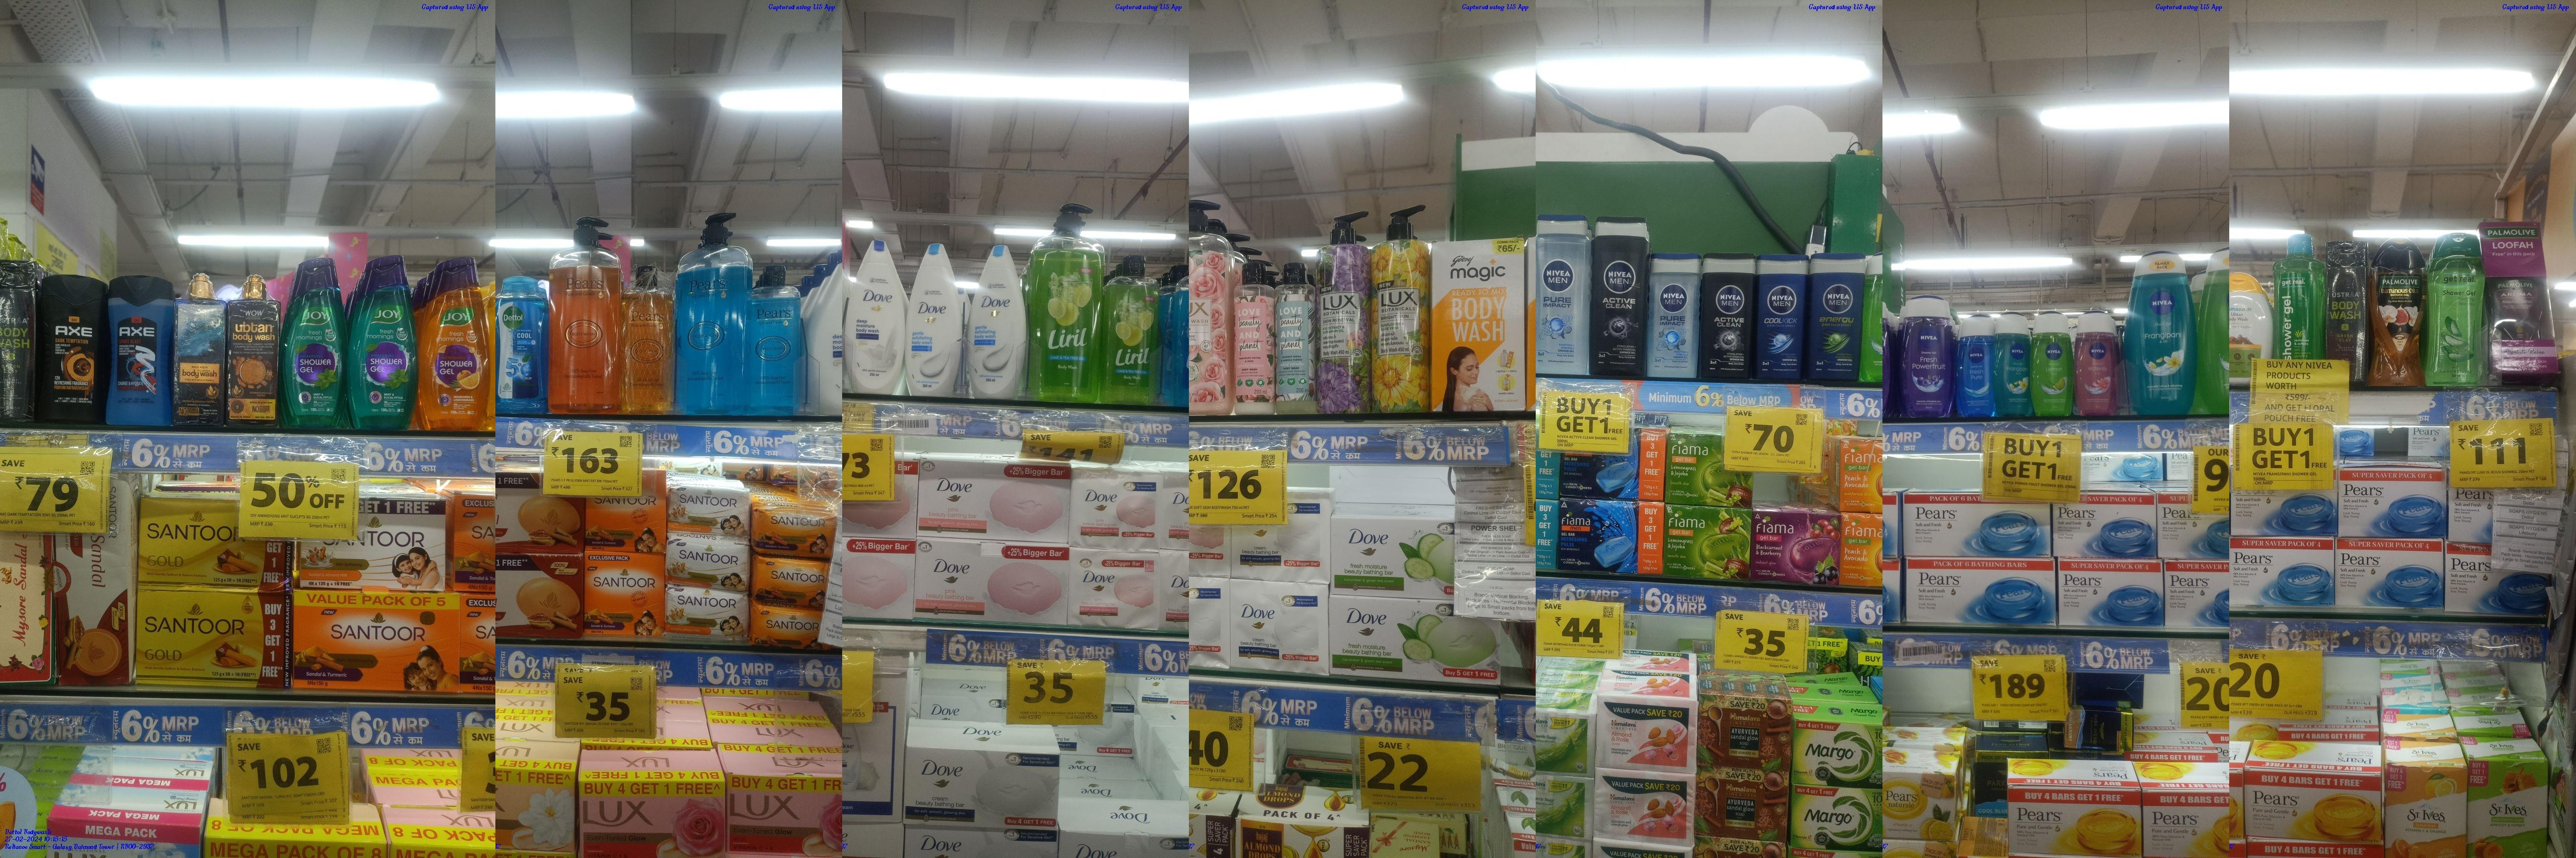Dettol_Bodywash_Cool: (495, 274, 544, 416)
Dove_Deep_Moisture_Body_Wash_250ML: (849, 240, 904, 394)
Dove_Gentle_Exfoliating_Body_Wash_250ML: (966, 243, 1025, 401), (908, 243, 959, 399)
Joy_Shower_Gel_Mandarin_and_Lemongrass_250ML: (422, 253, 490, 432)
Joy_Shower_Gel_Mint_and_Eucalyptus_250ML: (352, 255, 416, 431), (284, 253, 343, 429)
Liril_Lime_and_Tea_Tree_Oil_Body_Wash_250ML: (1104, 250, 1160, 404)
Nivea_Shower_Gel_Frangipani_and_Oil_250ML: (2131, 247, 2198, 417), (1993, 311, 2032, 417)
Nivea_Shower_Gel_Fresh_Powerfruit_250ML: (1898, 293, 1953, 422)
Nivea_Shower_Gel_Lemon_and_Oil_250ML: (2034, 311, 2073, 419)
Nivea_Shower_Gel_Waterlily_and_Oil_250ML: (2078, 309, 2119, 419)
Palmolive_Luminous_Oils_With_White_Orchid_Shower_Gel_250ML: (2369, 235, 2428, 391)
